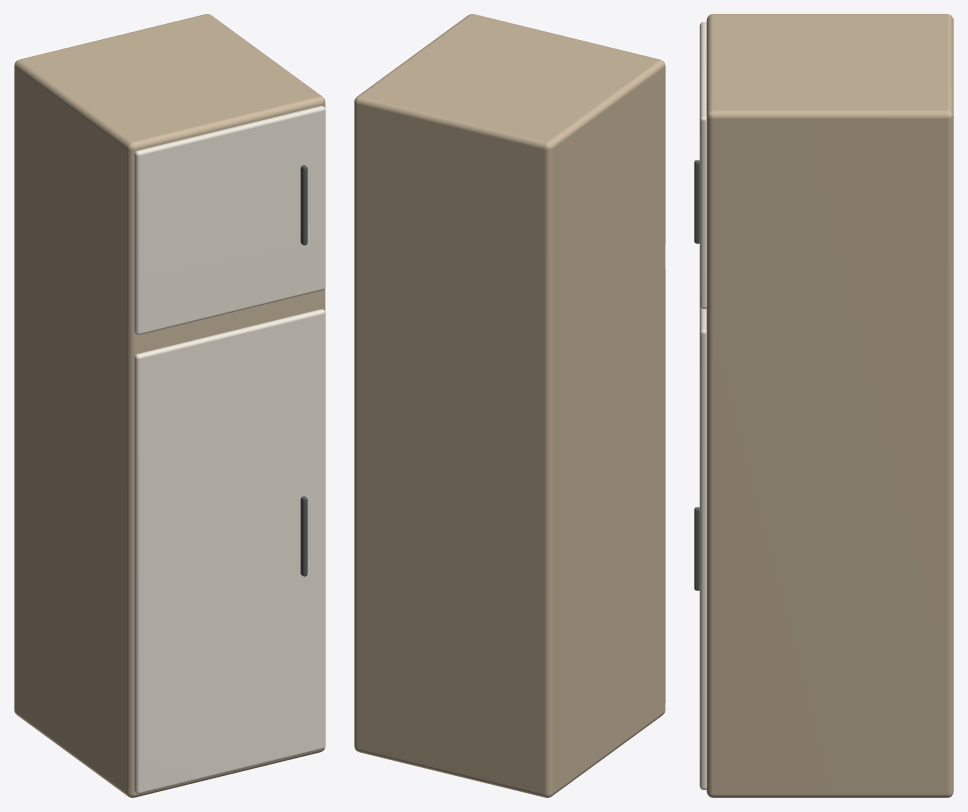
The picture shows the model from 3 angles, left to right: view 1: azimuth 30°, elevation 25°; view 2: azimuth 150°, elevation 25°; view 3: azimuth 270°, elevation 25°; orthographic projection. The views are drawn at different scales.
Parts seen in each view (by area): view 1: body, door_1, door_0, handle_0, handle_1; view 2: body; view 3: body, door_1, door_0, handle_0, handle_1.
Part boxes in pixels (left/top/right/bottom): body: left=14, top=14, right=325, bottom=797; door_1: left=134, top=309, right=325, bottom=794; door_0: left=134, top=105, right=325, bottom=335; handle_0: left=300, top=165, right=307, bottom=245; handle_1: left=300, top=496, right=307, bottom=576; body: left=354, top=14, right=665, bottom=797; body: left=706, top=14, right=953, bottom=797; door_1: left=699, top=305, right=706, bottom=789; door_0: left=699, top=22, right=706, bottom=308; handle_0: left=694, top=160, right=699, bottom=243; handle_1: left=694, top=507, right=699, bottom=590.
Size of the model in its own units: 0.6 by 1.9 by 0.65.
